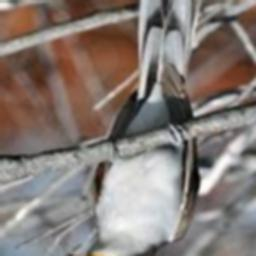Cuckoo: (68, 0, 201, 256)
